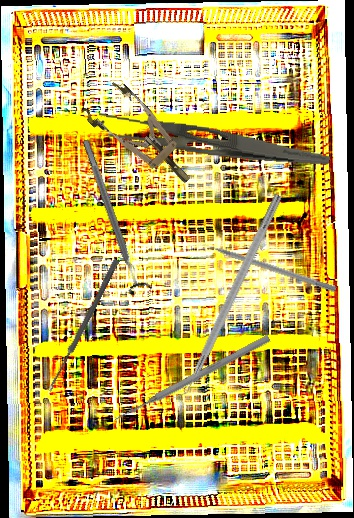Chopper: (165, 188, 283, 408)
Dressing Forceps: (95, 108, 333, 168)
Fixation Ring: (73, 135, 154, 298)
Pusher: (112, 332, 272, 425), (194, 237, 338, 293)
Speculum: (79, 75, 206, 201)
Surgical Spoon: (46, 257, 120, 394)
